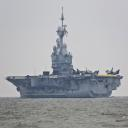Portanaves: (5, 6, 124, 100)
